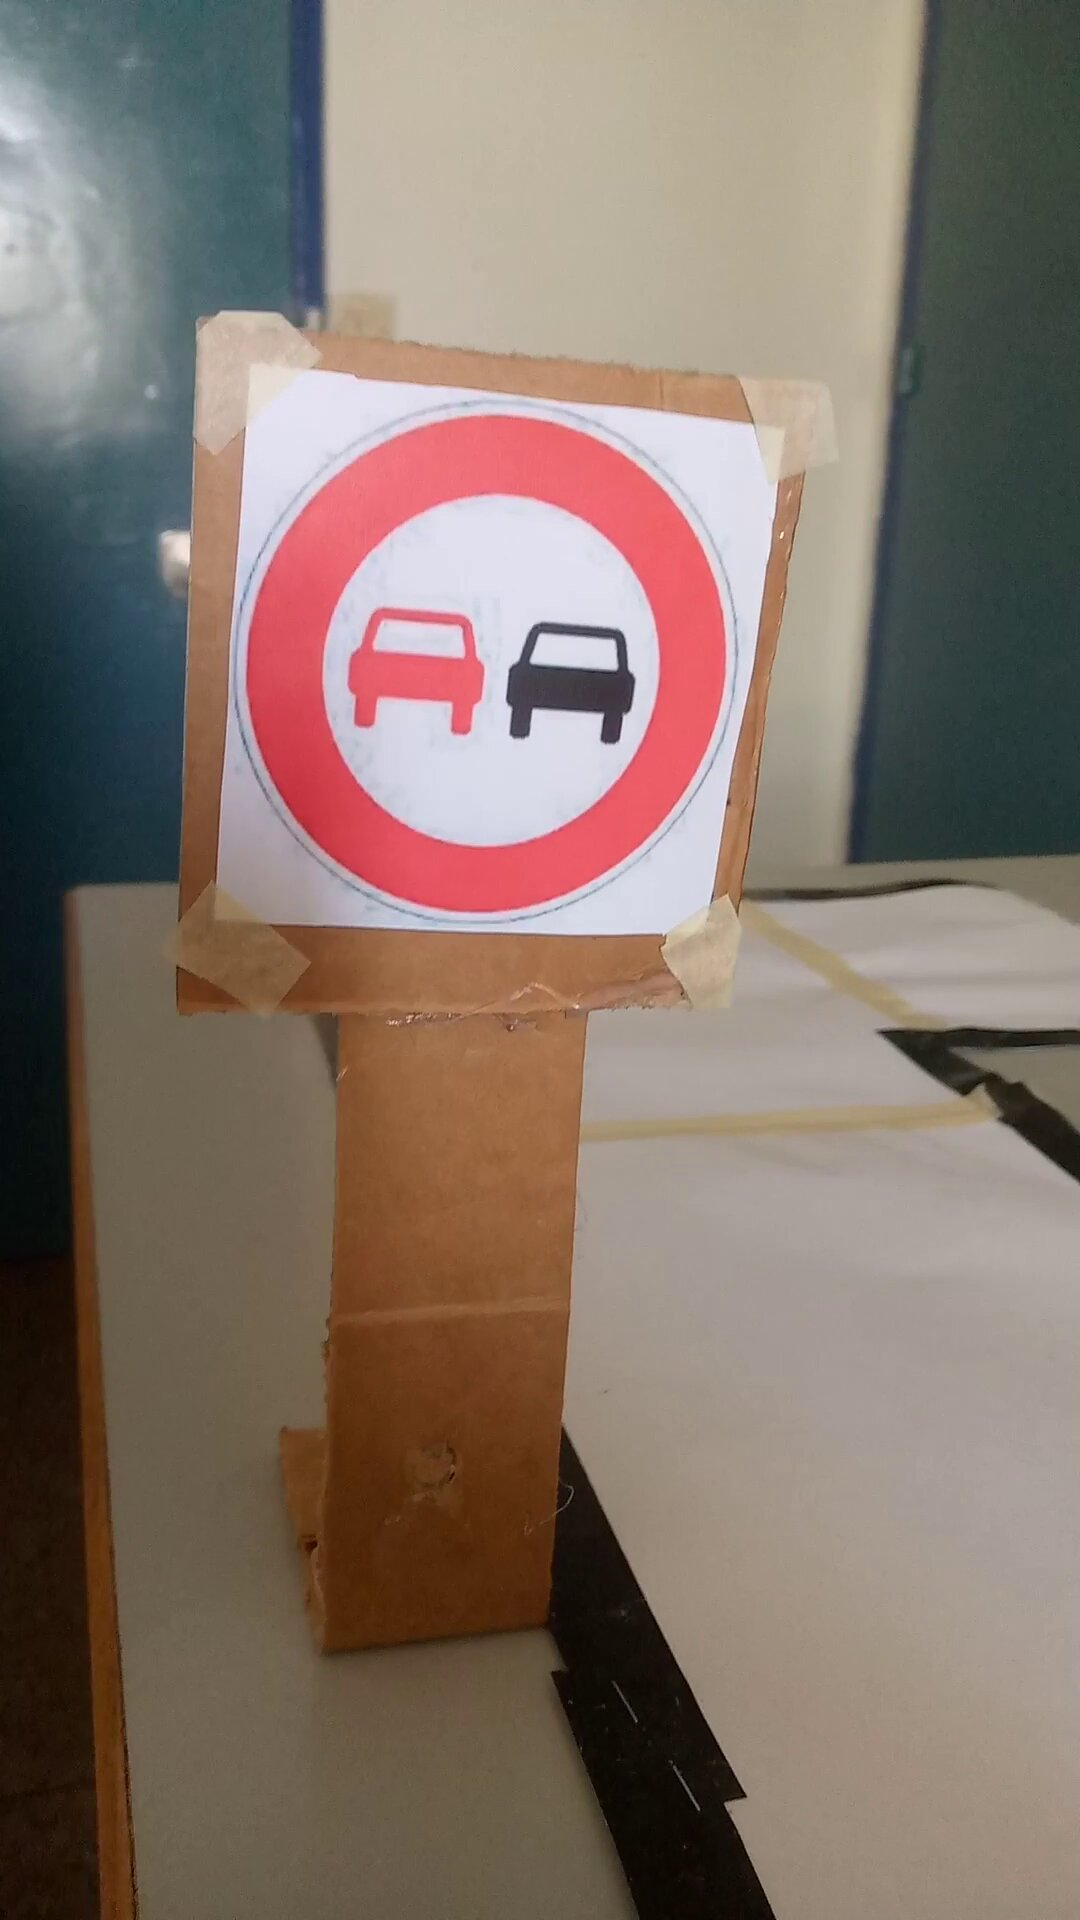panel100: (241, 343, 764, 967)
